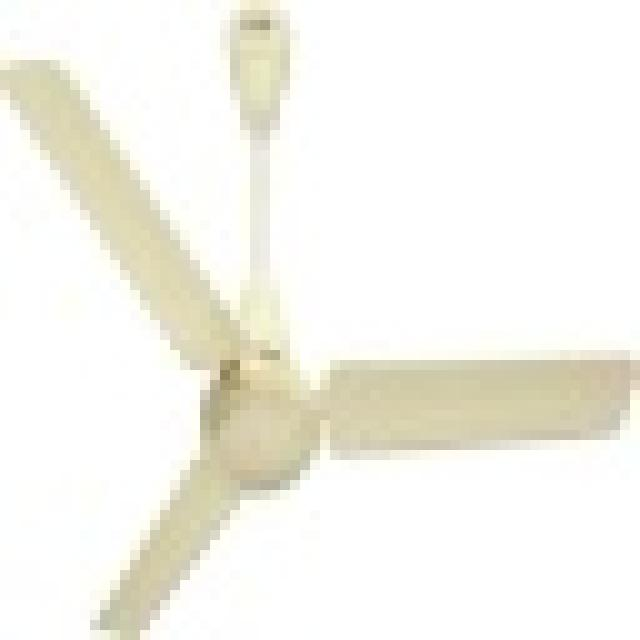Bulb: (8, 41, 639, 624)
